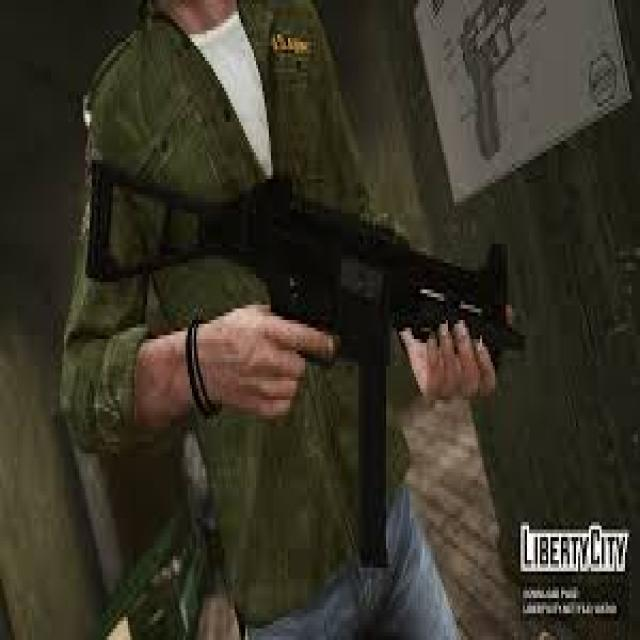Gun: (61, 113, 526, 589)
